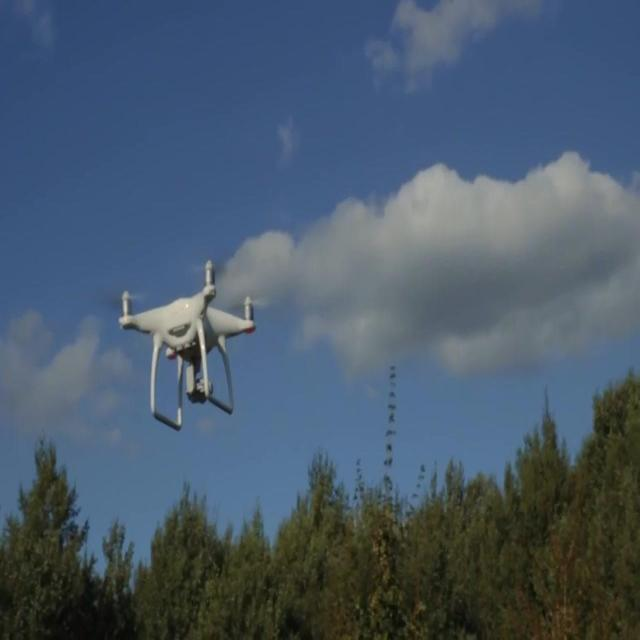drone: (116, 259, 267, 432)
